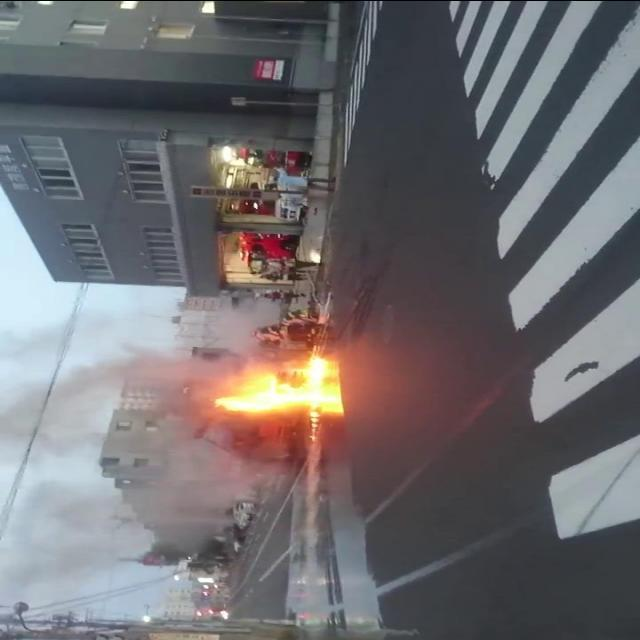Fire: (215, 350, 323, 440)
